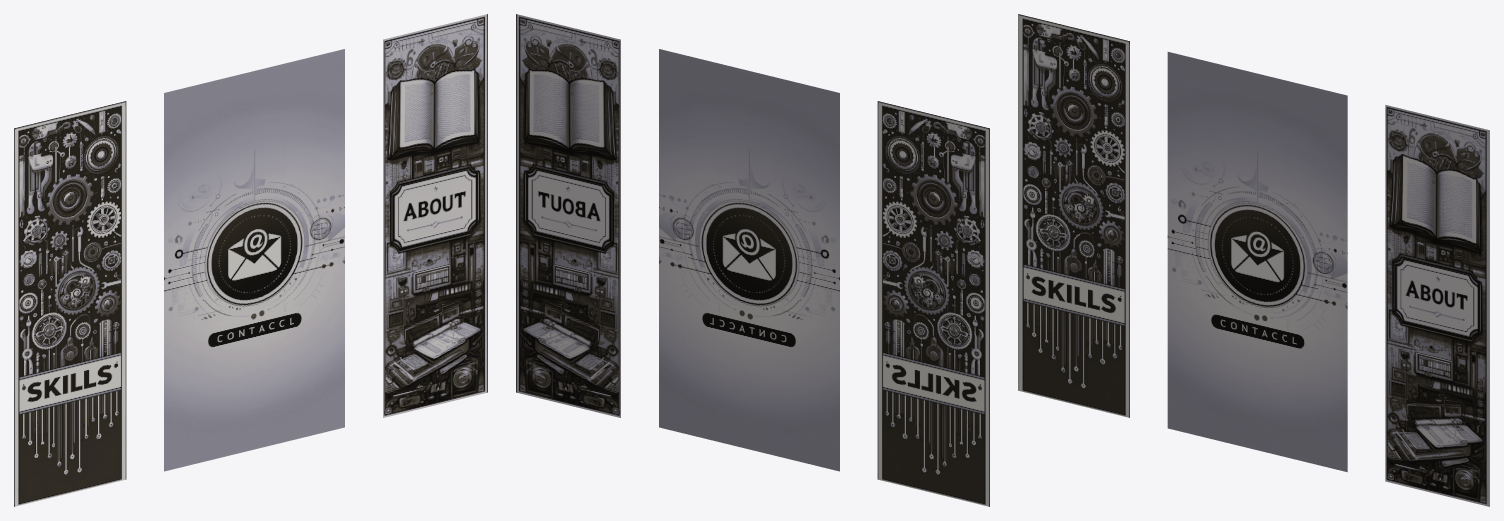
The model's file is privateDev2.gltf.
3 views of the same model, side by side, from view 1: azimuth 30°, elevation 25°; view 2: azimuth 150°, elevation 25°; view 3: azimuth 330°, elevation 25° (orthographic).
Visible parts, largest first — view 1: 5p65kh4q, dzdu2g2o, ostm399a; view 2: 5p65kh4q, dzdu2g2o, ostm399a; view 3: 5p65kh4q, dzdu2g2o, ostm399a.
Boxes of the visible parts, x1,y1,x2,y2 form: 5p65kh4q: (164, 49, 344, 471); dzdu2g2o: (14, 101, 126, 506); ostm399a: (383, 14, 487, 417); 5p65kh4q: (659, 49, 839, 471); dzdu2g2o: (877, 101, 989, 506); ostm399a: (516, 14, 620, 417); 5p65kh4q: (1167, 52, 1347, 472); dzdu2g2o: (1018, 14, 1129, 417); ostm399a: (1385, 105, 1489, 506).
Bounding box in the file's own units: 1.31 × 1 × 4.44e-16.
3 materials, 3 textured.
